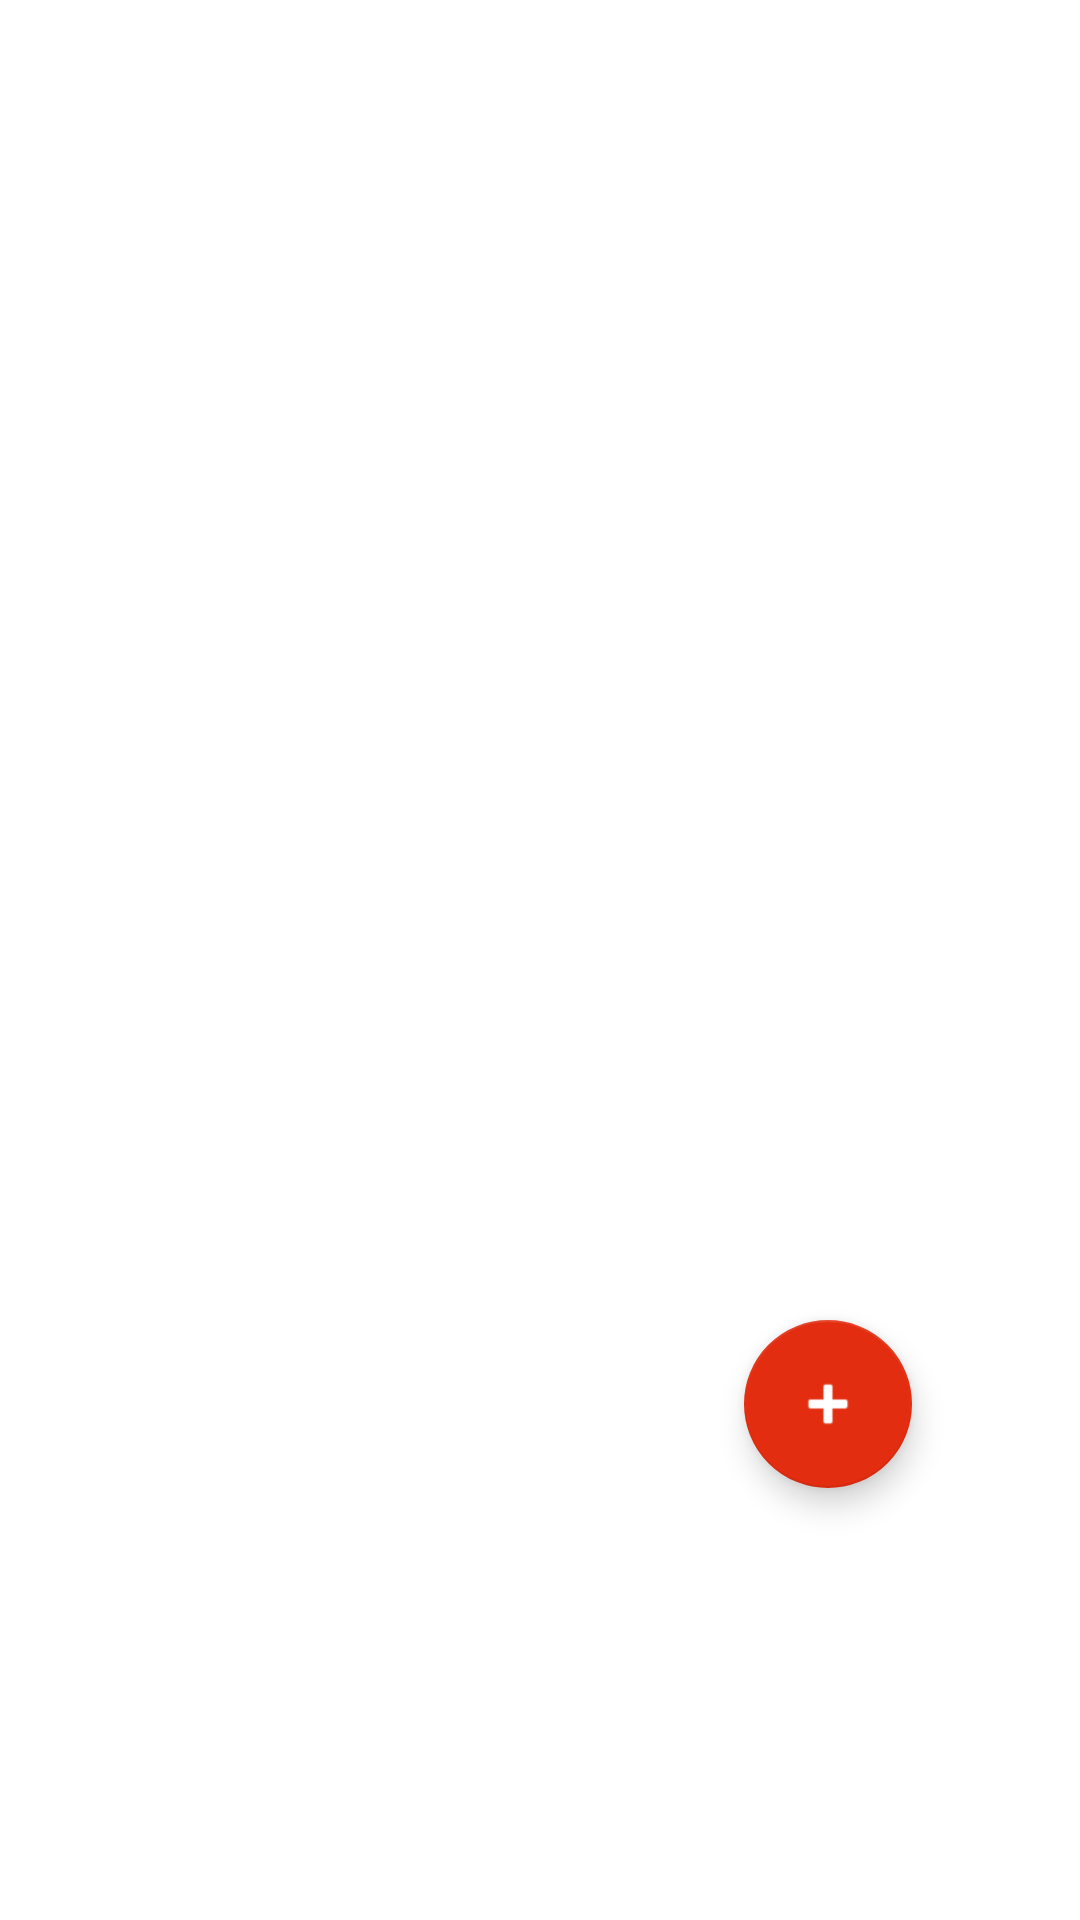

Screen size 1080x1920. Icon name, then its center in pixels as (x,y):
add: (828,1404)
